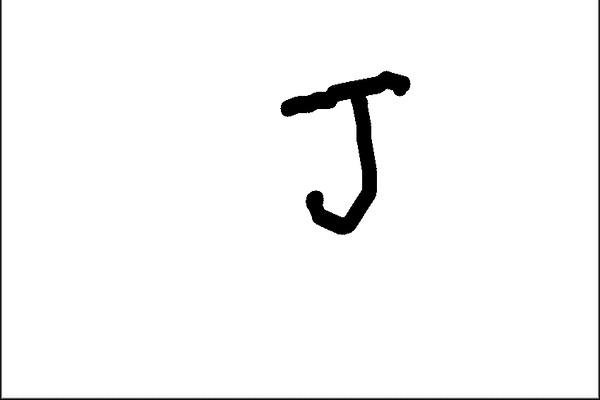J: (275, 68, 415, 240)
